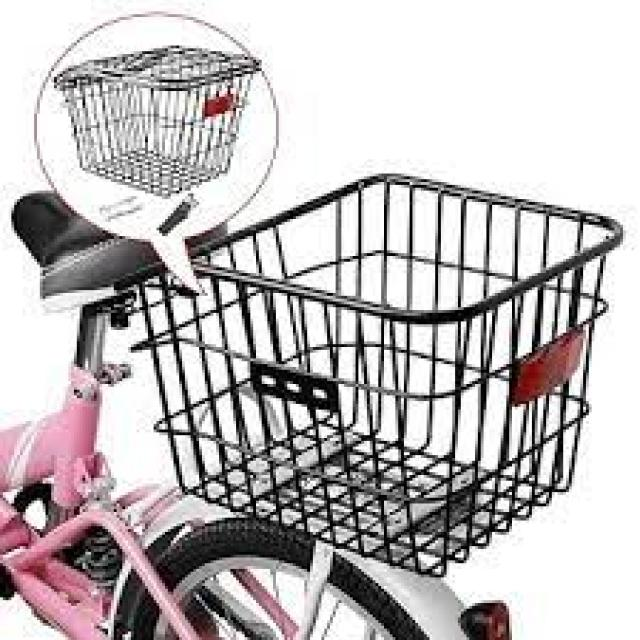basket: (142, 173, 620, 576), (52, 42, 261, 200)
